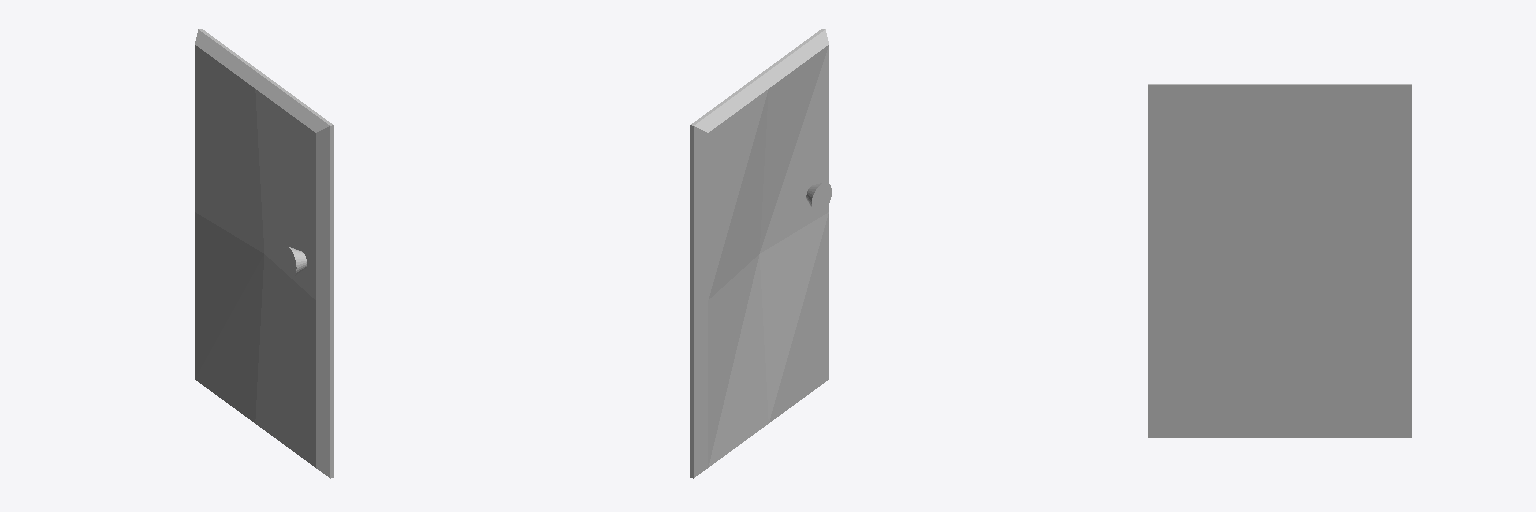
Rendered from mesa_centro_puerta3.obj.
3 views of the same model, side by side, from view 1: azimuth 30°, elevation 25°; view 2: azimuth 150°, elevation 25°; view 3: azimuth 270°, elevation 25° (orthographic).
Parts seen in each view (by area): view 1: Cubo.028_Cubo.027; view 2: Cubo.028_Cubo.027; view 3: Cubo.028_Cubo.027.
Boxes of the visible parts, box(x1,y1,x2,y2) form: Cubo.028_Cubo.027: box(195, 29, 333, 478); Cubo.028_Cubo.027: box(690, 29, 831, 478); Cubo.028_Cubo.027: box(1148, 84, 1411, 437).
Bounding box in the file's own units: 0.0699 × 1 × 0.6797.